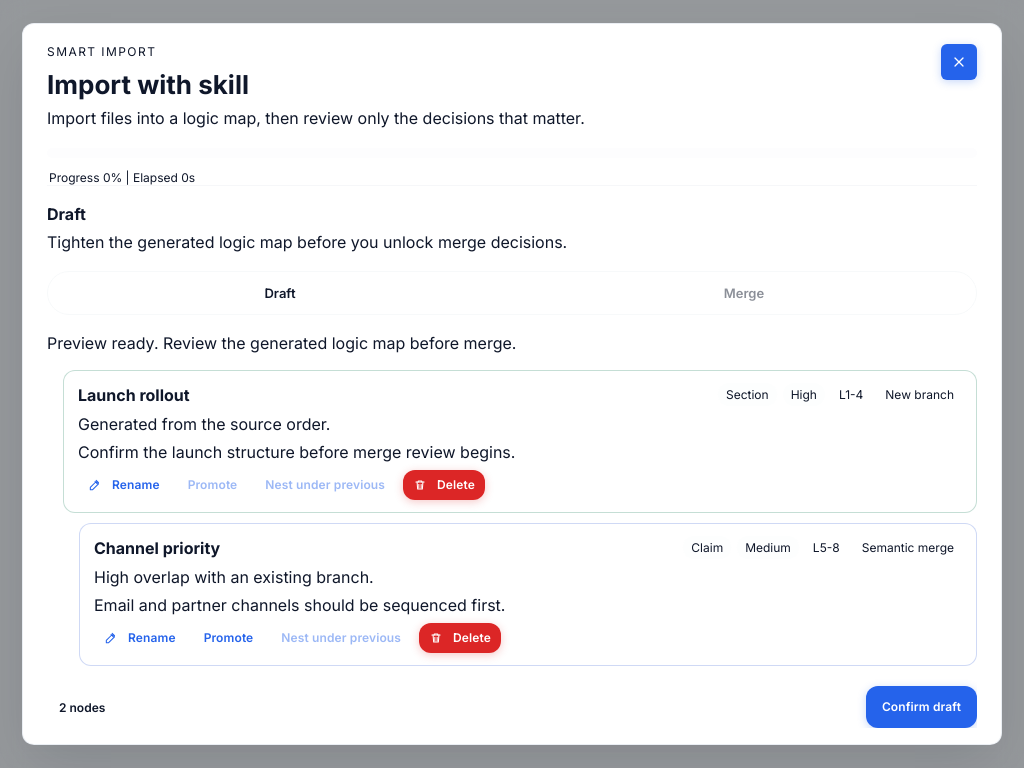
TextImportDialog › shows the blocked merge state when the component switches tabs before the parent confirms the draft
(page scrolled)
Step 1. Click the button "Confirm draft" → coordinates (921, 707), box [866,686,977,728]
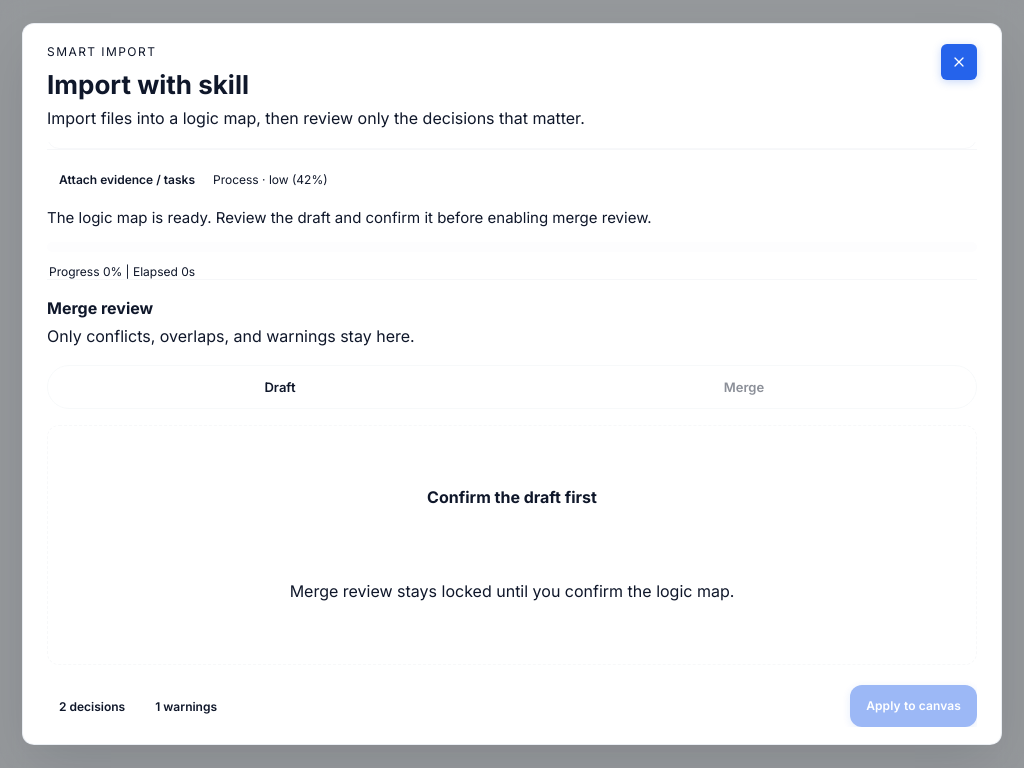
Check: the text "Confirm the draft first" is shown, box [427,486,597,508]
